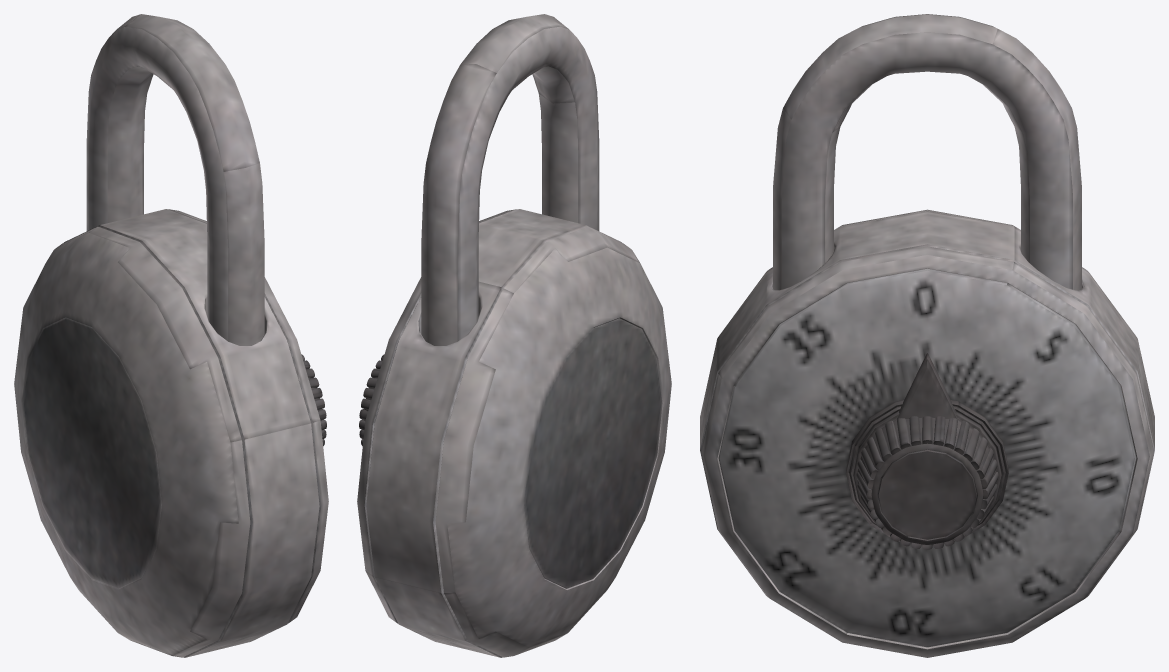
File: old_lock.glb
The picture shows the model from 3 angles, left to right: view 1: azimuth 30°, elevation 25°; view 2: azimuth 150°, elevation 25°; view 3: azimuth 270°, elevation 25°; orthographic projection. The views are drawn at different scales.
Parts seen in each view (by area): view 1: Mesh_0.003; view 2: Mesh_0.003; view 3: Mesh_0.003.
Boxes of the visible parts, x1,y1,x2,y2 form: Mesh_0.003: [14, 14, 328, 657]; Mesh_0.003: [357, 14, 671, 657]; Mesh_0.003: [700, 14, 1154, 657].
Bounding box in the file's own units: 1.08 × 3.03 × 2.
Materials: 1 (1 with a texture image).
